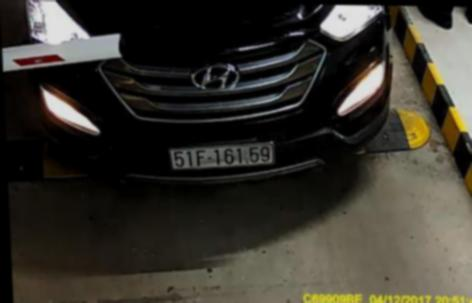License_Plate: (166, 138, 277, 172)
